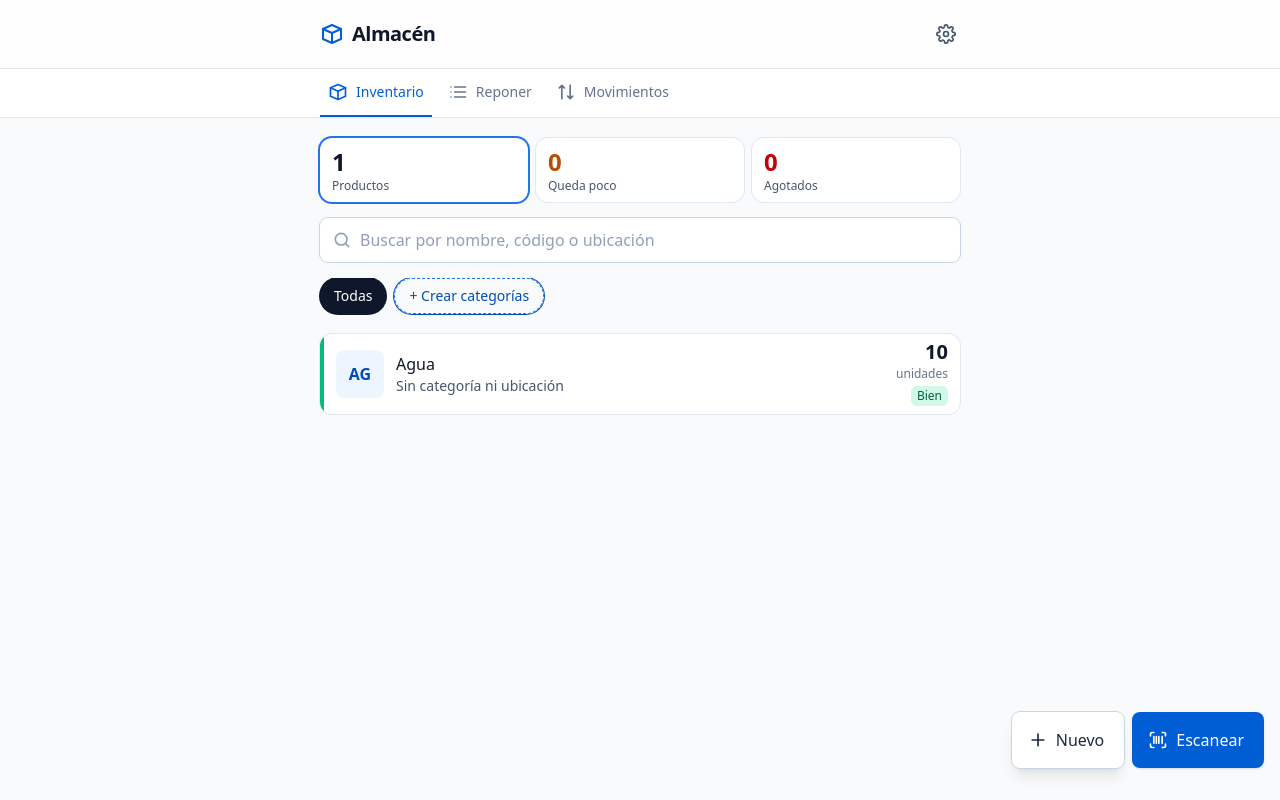
Test: MainScreen › opens the product when a known code is scanned, then scans the next one
Click the button "Escanear" at x=1198, y=740, box [1132, 712, 1264, 768]
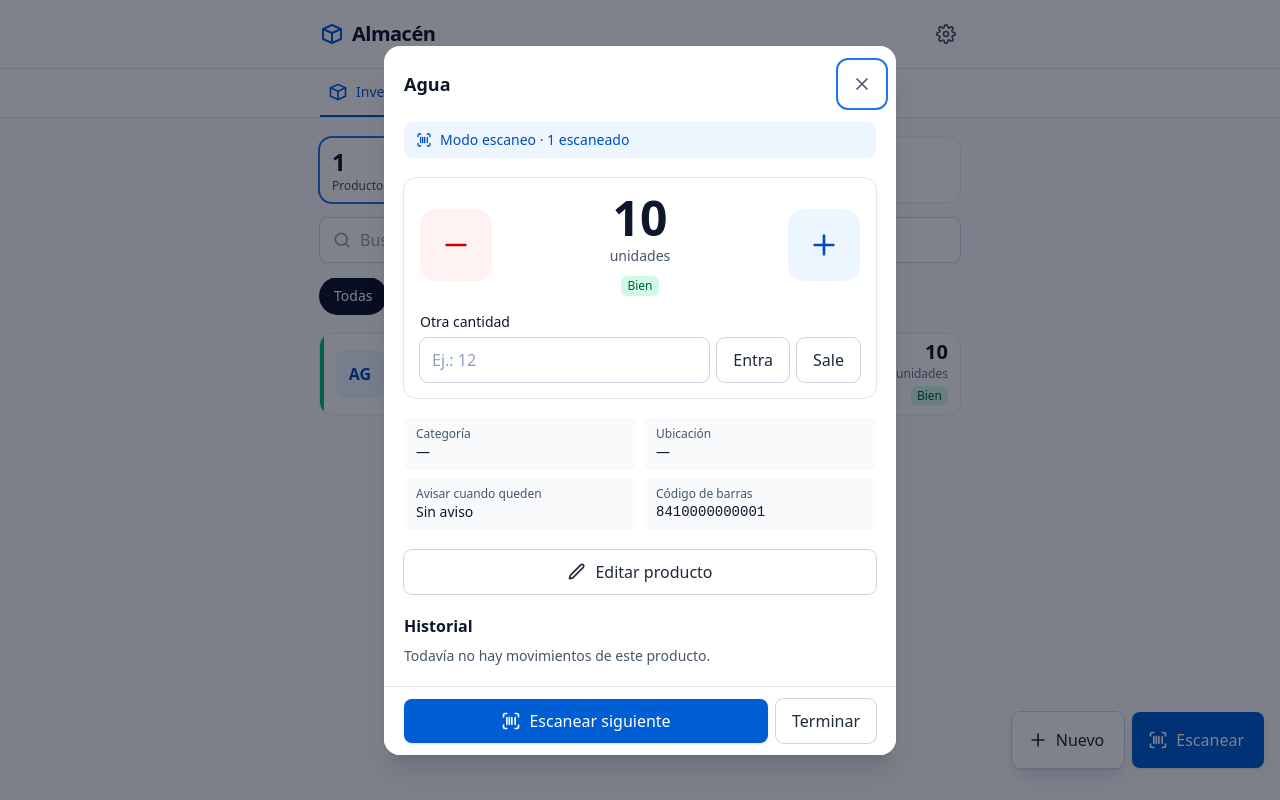
Check: the text "Modo escaneo · 1 escaneado" is shown, box [404, 122, 876, 158]
Click the button "Escanear siguiente" at x=586, y=720, box [404, 698, 768, 742]
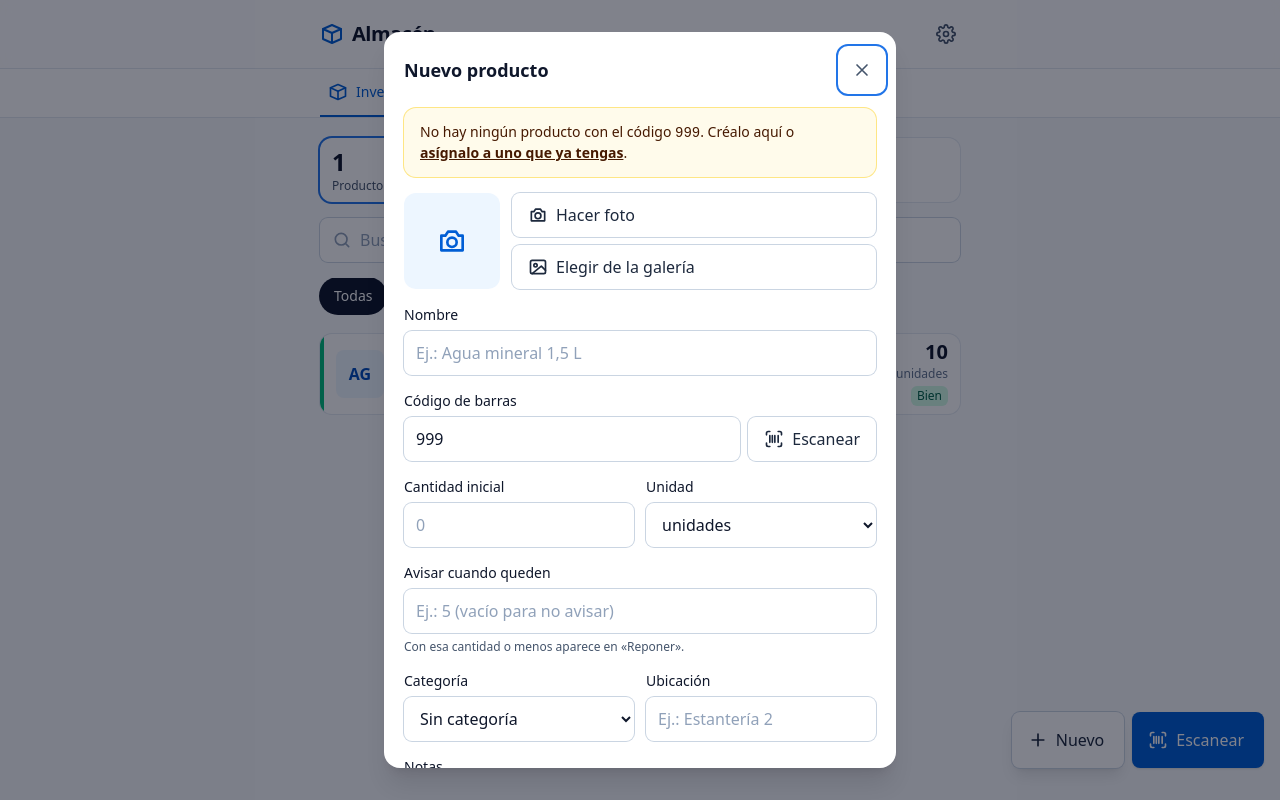
Check: the field labelled "Código de barras" holds "999", box [404, 417, 740, 461]
Check: the text "No hay ningún producto con el código" is shown, box [420, 122, 675, 141]
